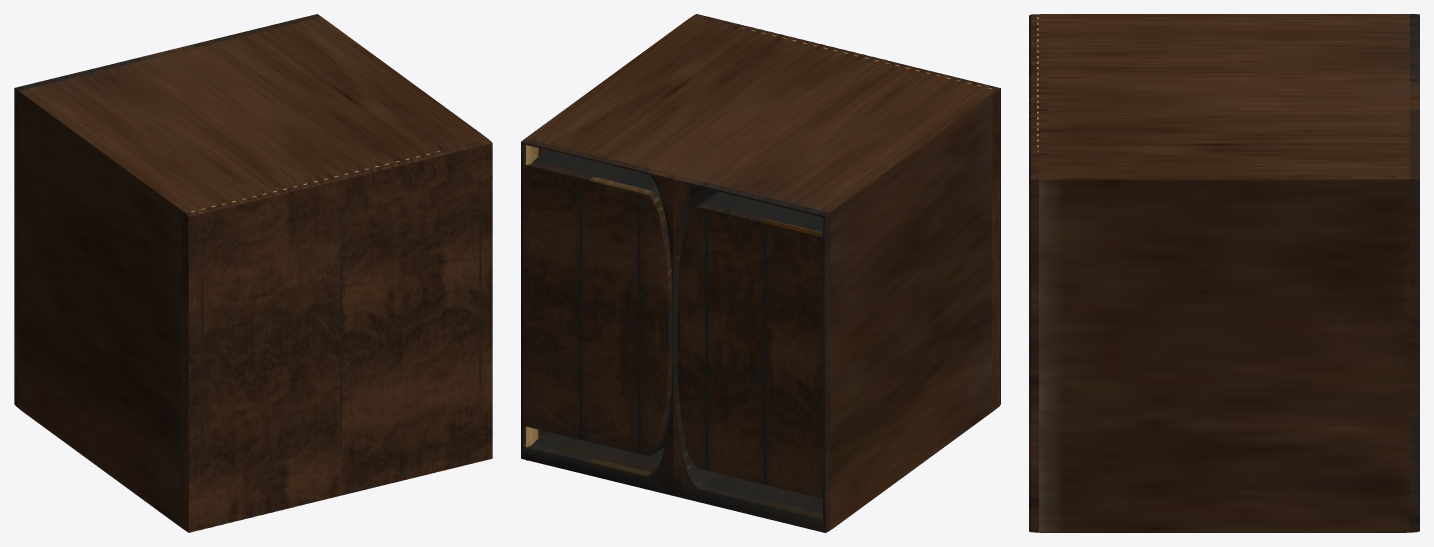
The model's file is furniture-parts.glb.
3 renders of one model, left to right at view 1: azimuth 30°, elevation 25°; view 2: azimuth 150°, elevation 25°; view 3: azimuth 270°, elevation 25°, orthographic. The views are drawn at different scales.
Visible parts, largest first — view 1: board, door; view 2: board, door; view 3: board, door.
Boxes of the visible parts, bbox=[...] form: board: bbox=[14, 14, 492, 532]; door: bbox=[180, 22, 453, 532]; board: bbox=[521, 14, 1000, 532]; door: bbox=[526, 25, 1000, 460]; board: bbox=[1029, 14, 1419, 532]; door: bbox=[1029, 14, 1396, 525].
Bounding box in the file's own units: 1 × 1 × 1.
1 material, 1 textured.
